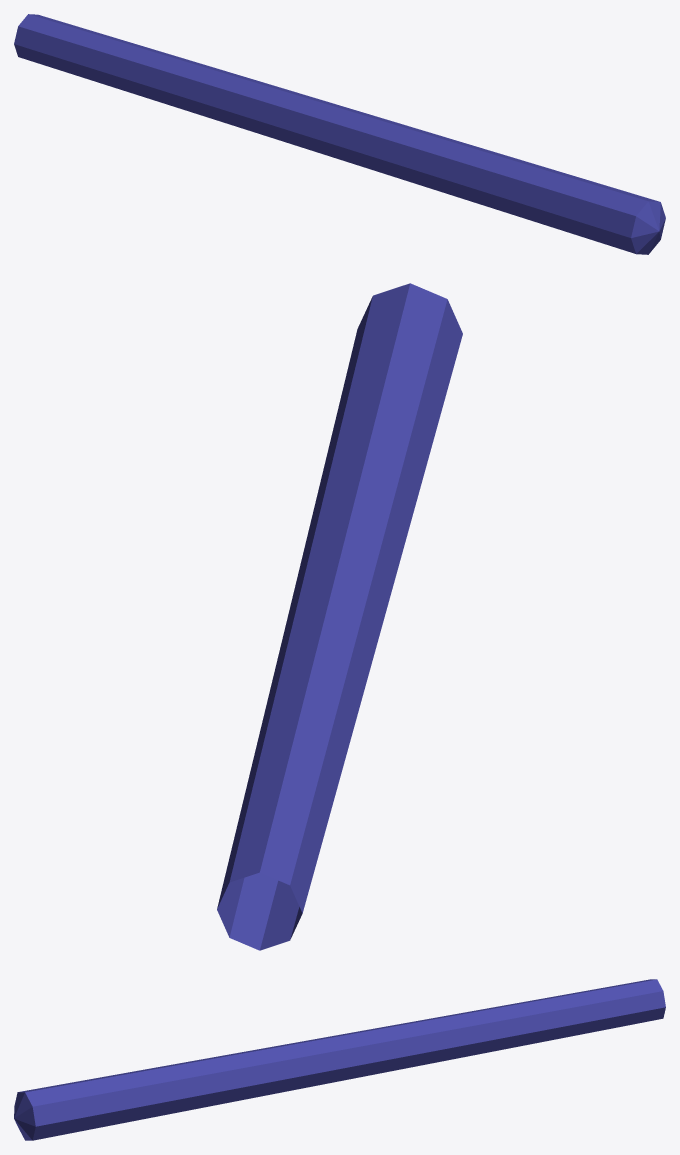
The model's file is cylinder.005_material.011_0_lev1.glb.
3 renders of one model, top to bottom at view 1: azimuth 30°, elevation 25°; view 2: azimuth 150°, elevation 25°; view 3: azimuth 270°, elevation 25°, orthographic. The views are drawn at different scales.
Visible parts, largest first — view 1: cylinder.005_material.011_0_lev1; view 2: cylinder.005_material.011_0_lev1; view 3: cylinder.005_material.011_0_lev1.
Part boxes in pixels (x1=…): cylinder.005_material.011_0_lev1: x1=14, y1=14, x2=665, y2=254; cylinder.005_material.011_0_lev1: x1=217, y1=283, x2=462, y2=950; cylinder.005_material.011_0_lev1: x1=14, y1=979, x2=665, y2=1140.
Size of the model in its own units: 3.78 by 0.6235 by 7.66.
